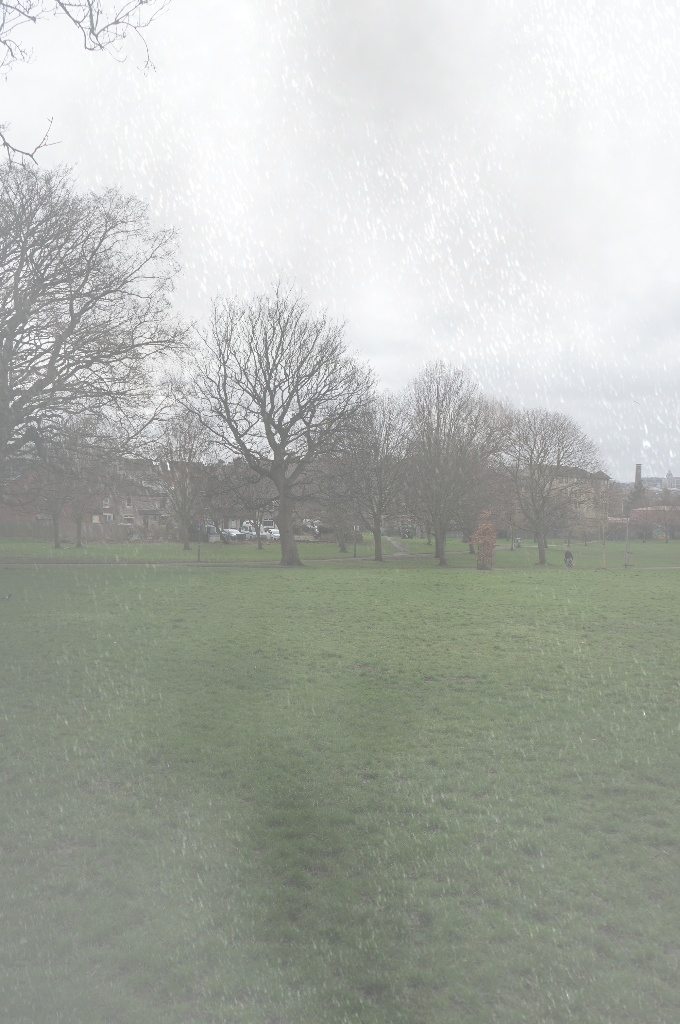Tree: (4, 151, 195, 580), (178, 281, 387, 587), (396, 357, 500, 578), (490, 405, 617, 581)
